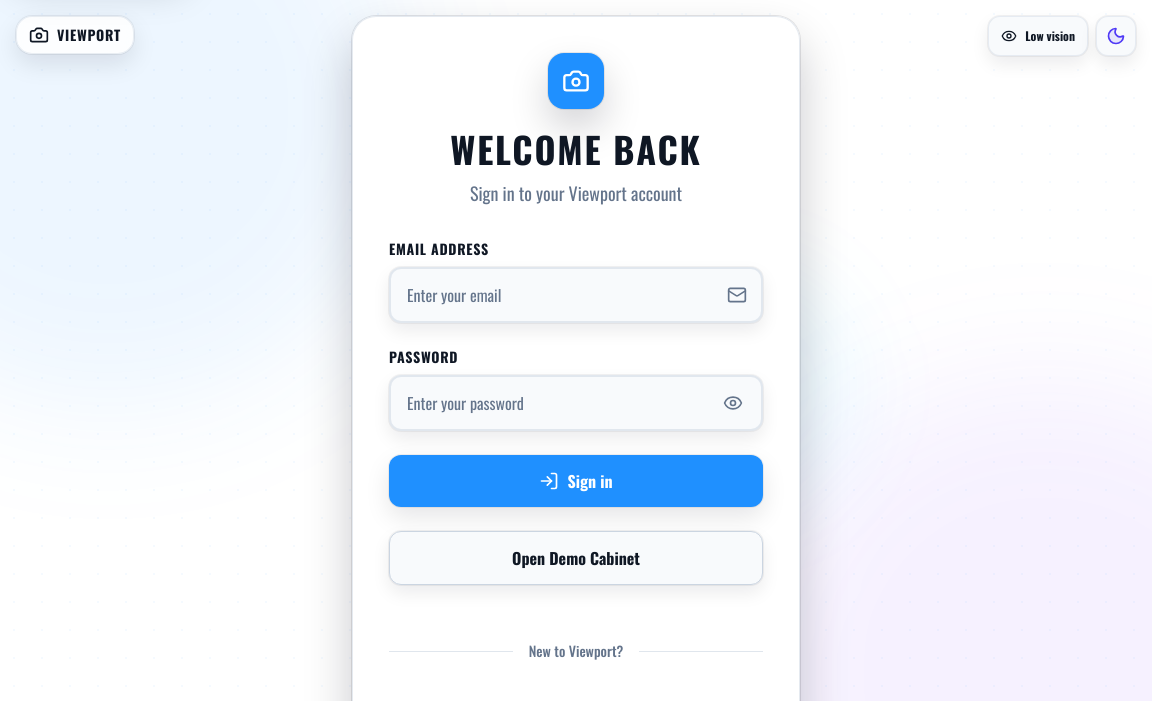
it: LoginPage › should reject numeric top-level-domain email before submit
The image size is (1152, 701).
Type "fgg@fd.5" into the field labelled "Email address" at (576, 295), box [389,267,763,323]
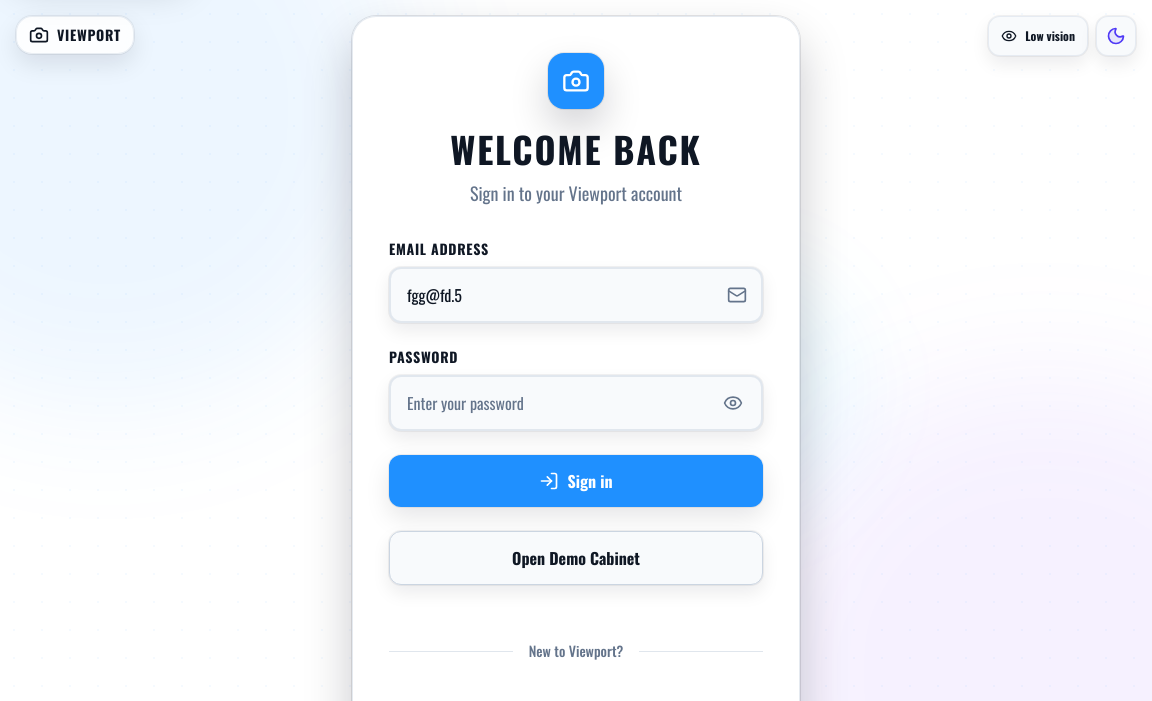
Type "password123" into the password field labelled "Password" at (576, 403), box [389,375,763,431]
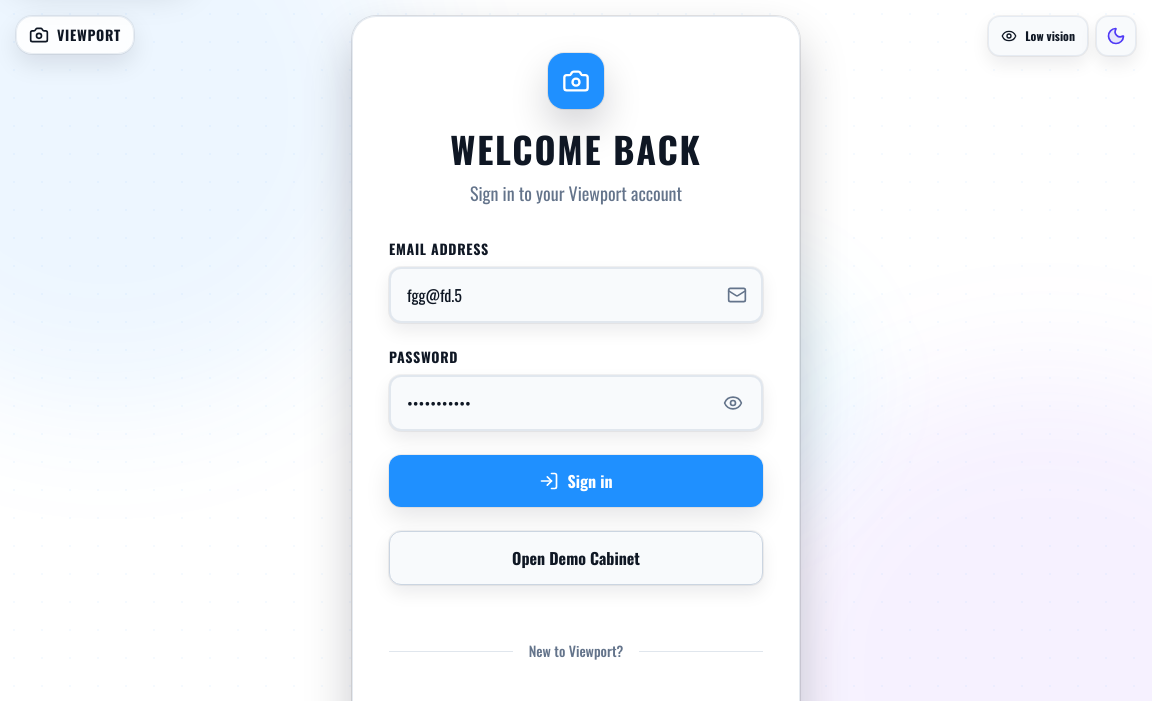
Click the button "Sign in" at (576, 481), box [389,455,763,507]
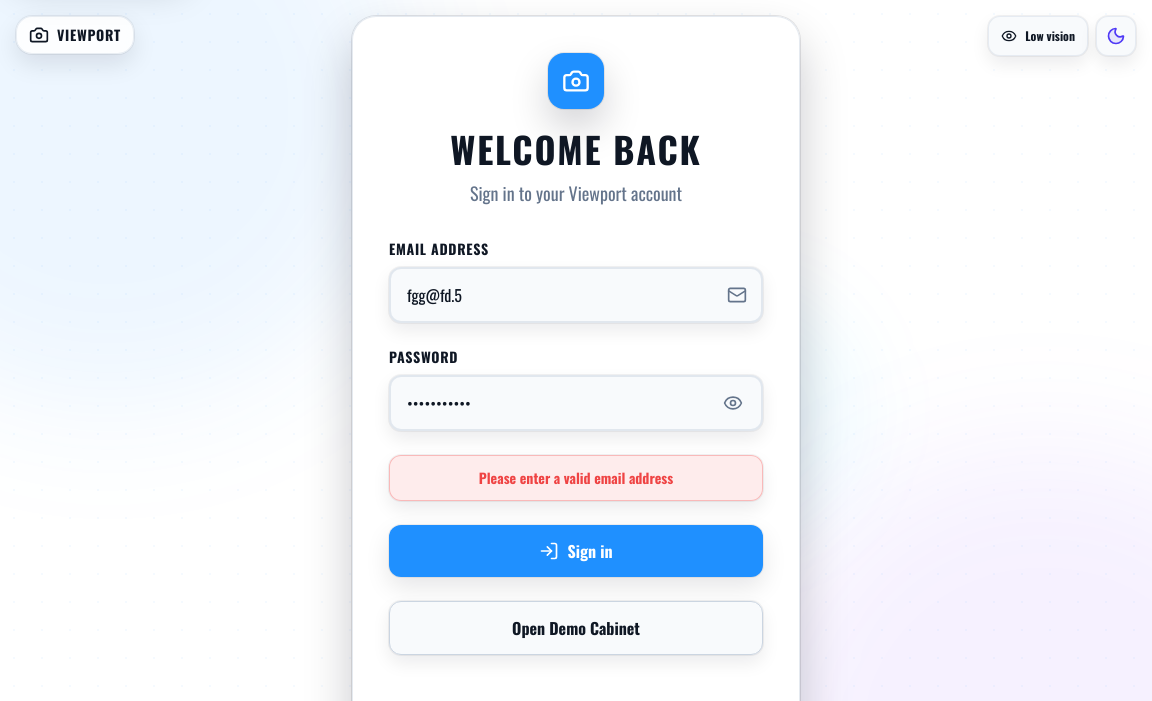
Check: the text "Please enter a valid email address" is shown, box [389,455,763,501]
